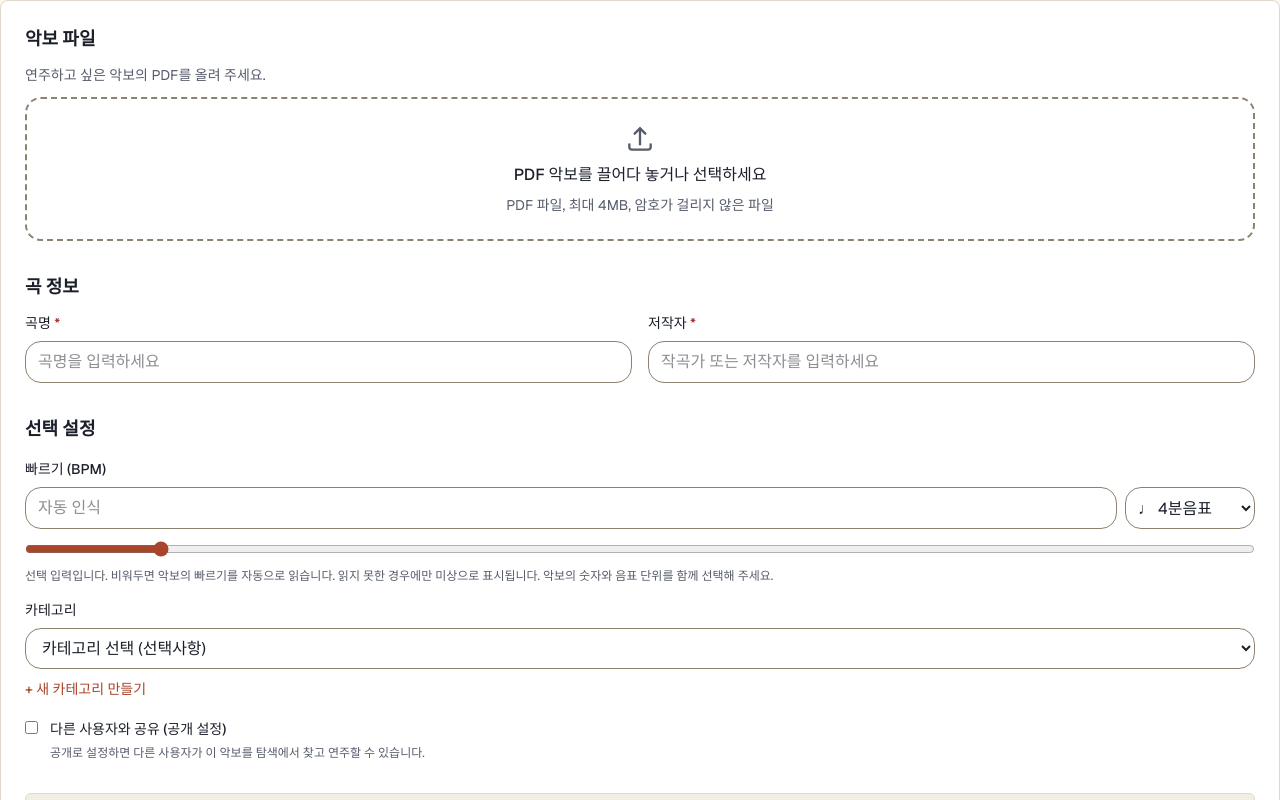
Scenario: OMRUploadForm › explains automatic reading and names the selected tempo unit
Expected: the text "악보의 빠르기를 자동으로 읽습니다" is shown, [25, 568, 540, 584]
Select "♩. 점4분음표" in the dropdown named "박 단위": [1190, 508] box [1125, 487, 1255, 529]
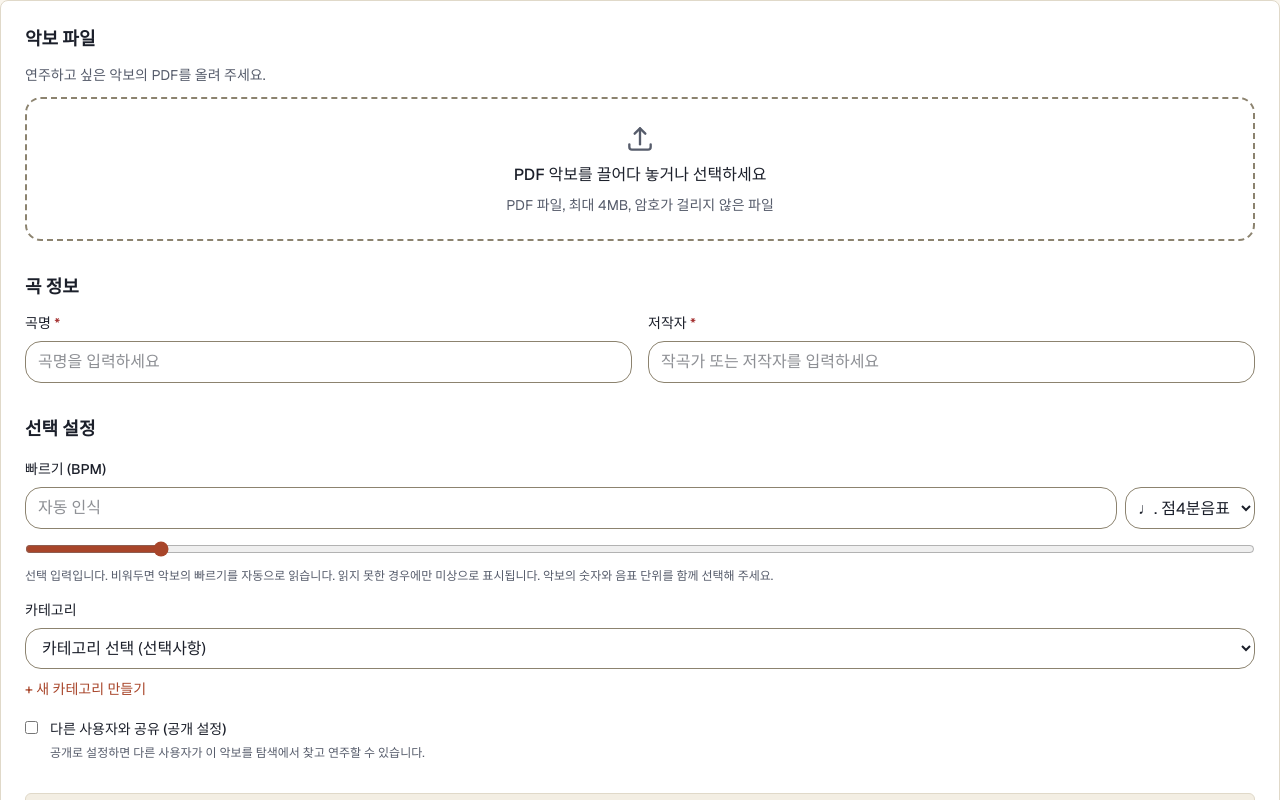
In the field labelled "빠르기 (BPM)": [571, 508] box [25, 487, 1117, 529], type "46"
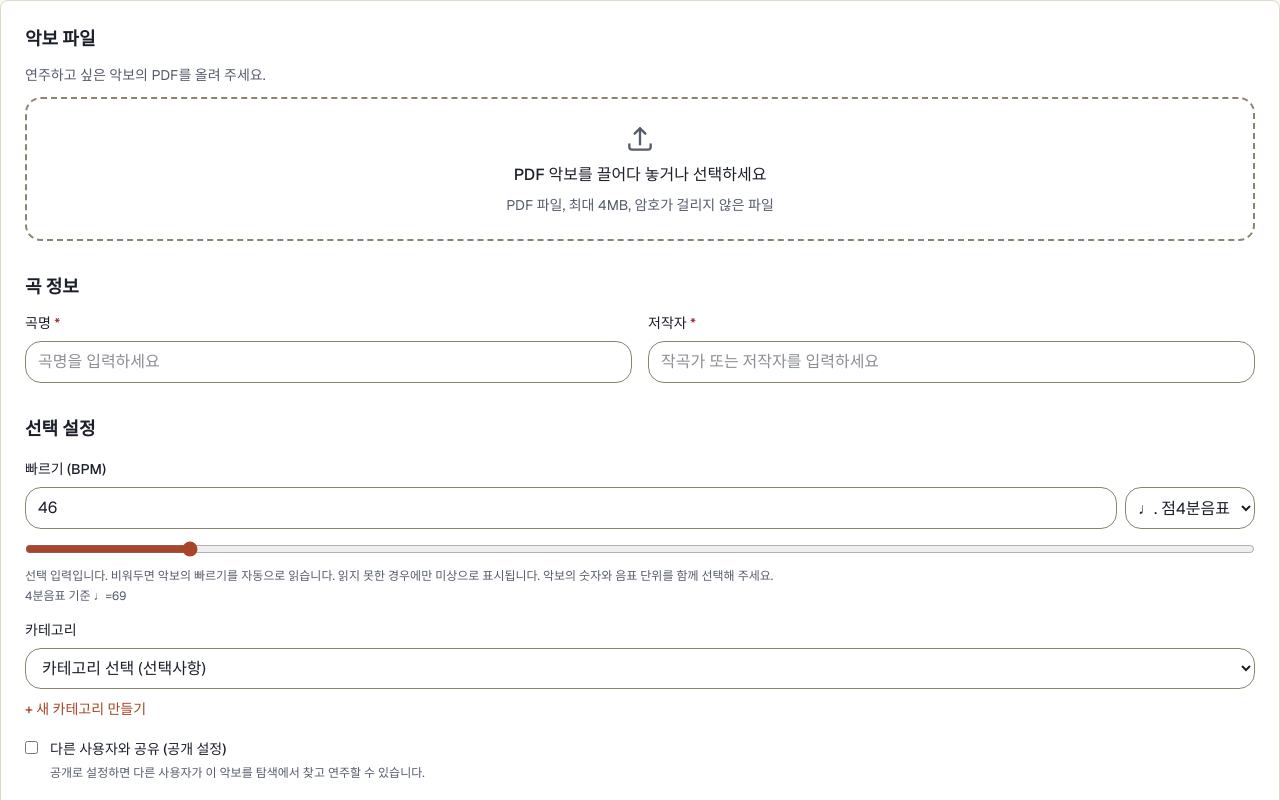
Expected: the text "4분음표 기준 ♩=69" is shown, [25, 588, 126, 604]
